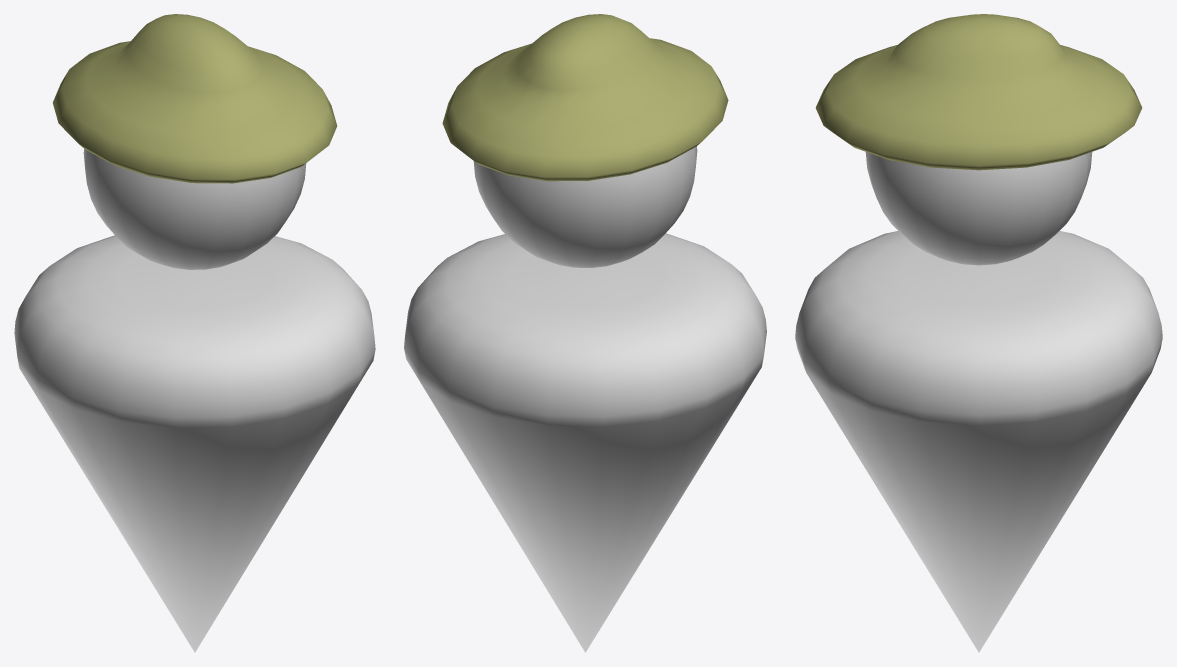
The model's file is Apprentice.fbx.
3 views of the same model, side by side, from view 1: azimuth 30°, elevation 25°; view 2: azimuth 150°, elevation 25°; view 3: azimuth 270°, elevation 25° (orthographic).
Visible parts, largest first — view 1: pCone2; view 2: pCone2; view 3: pCone2.
Part boxes in pixels (x1,y1,x2,y2): pCone2: (14, 14, 375, 652); pCone2: (404, 14, 766, 652); pCone2: (795, 14, 1162, 652).
Size of the model in its own units: 1.86 by 3.53 by 1.86.
